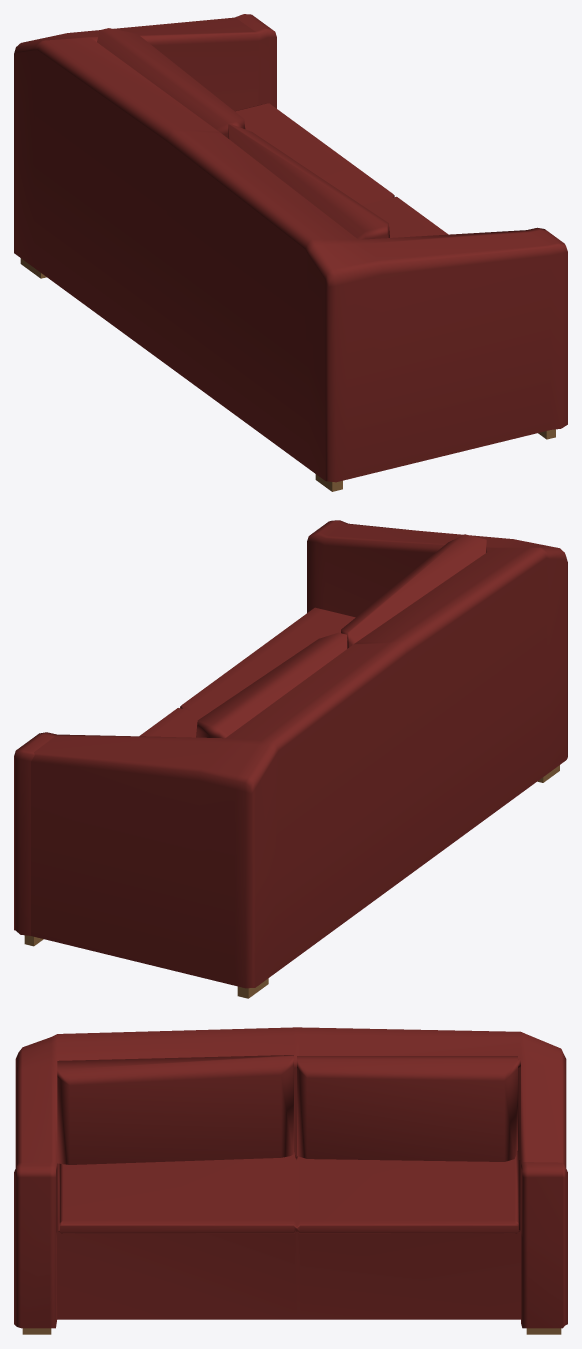
The model's file is Couch_resized.fbx.
3 views of the same model, one above another, from view 1: azimuth 30°, elevation 25°; view 2: azimuth 150°, elevation 25°; view 3: azimuth 270°, elevation 25° (orthographic). The views are drawn at different scales.
Visible parts, largest first — view 1: pCube1; view 2: pCube1; view 3: pCube1.
Boxes of the visible parts, x1,y1,x2,y2 form: pCube1: (14, 14, 567, 491); pCube1: (14, 520, 567, 998); pCube1: (14, 1027, 567, 1334).
Bounding box in the file's own units: 0.9099 × 0.8881 × 2.1.
